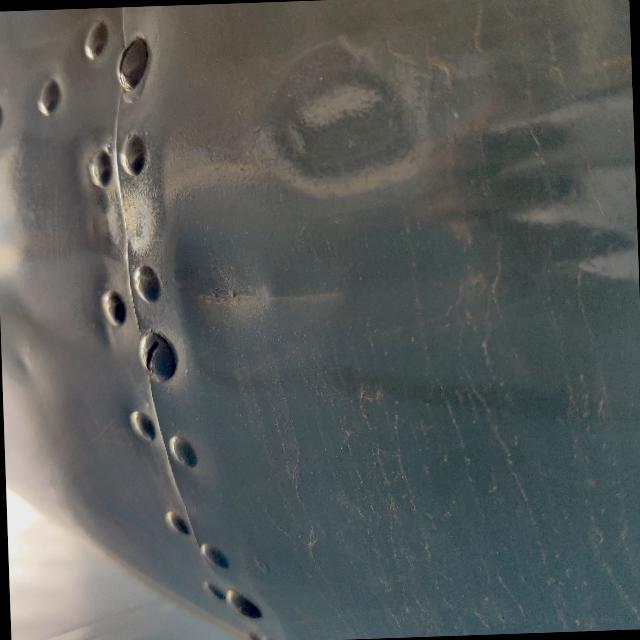dent: (228, 16, 460, 228), (175, 246, 295, 346)
